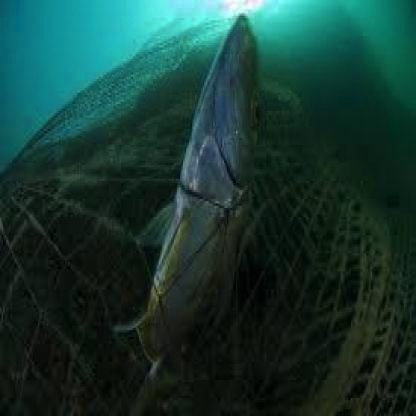net: (6, 92, 410, 416)
